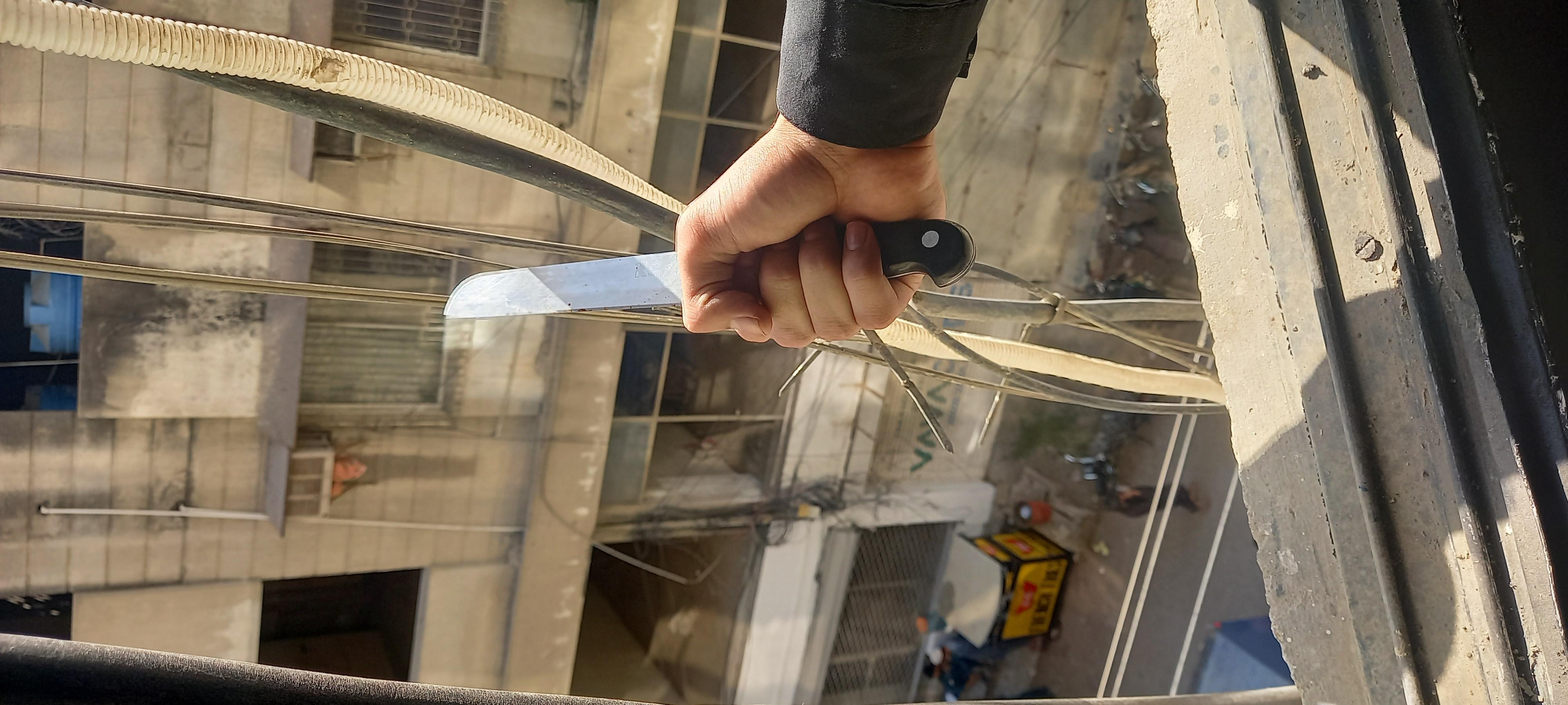knives: (833, 190, 1110, 439)
